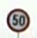limite 50: (5, 7, 30, 33)
